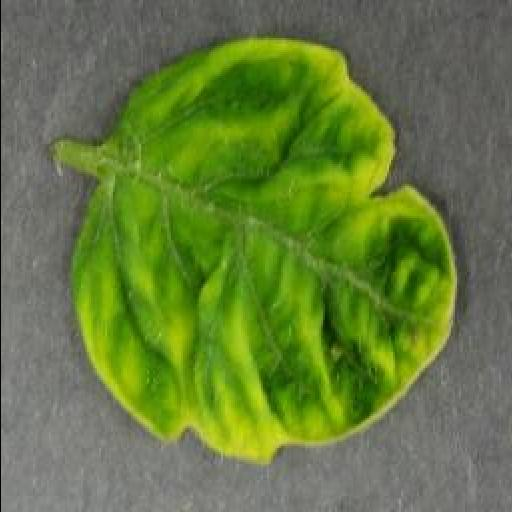disease_tomato: (65, 34, 459, 467)
